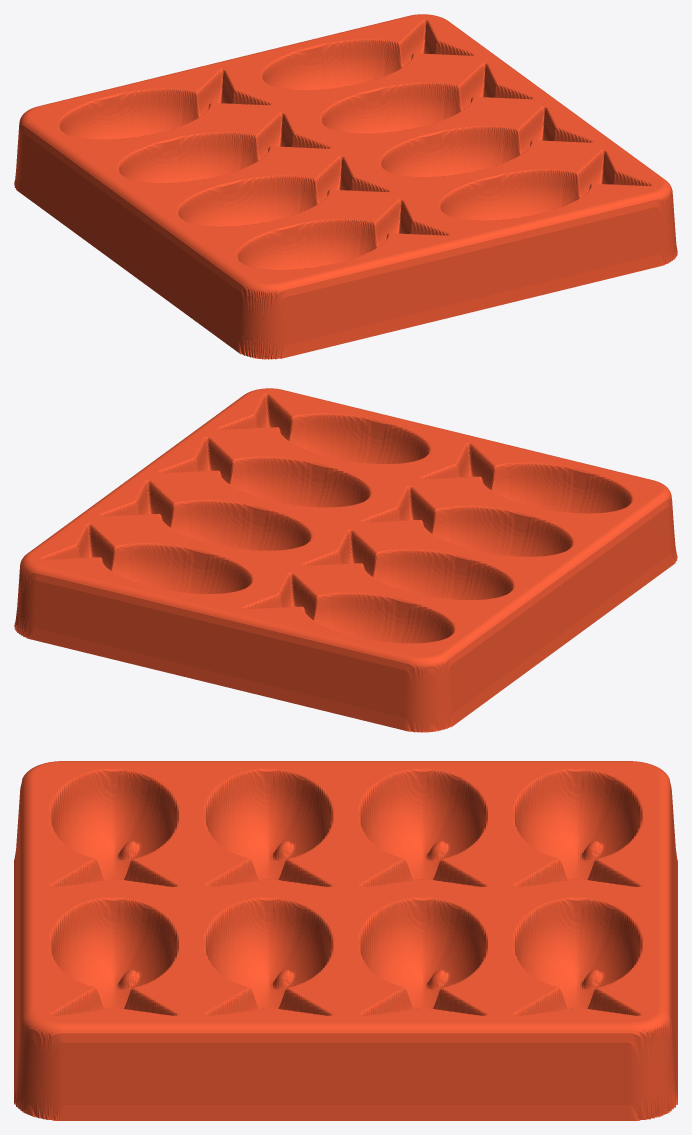
File: mold.glb
3 renders of one model, top to bottom at view 1: azimuth 30°, elevation 25°; view 2: azimuth 150°, elevation 25°; view 3: azimuth 270°, elevation 25°, orthographic. The views are drawn at different scales.
Visible parts, largest first — view 1: geometry_0; view 2: geometry_0; view 3: geometry_0.
Part boxes in pixels (x1,y1,x2,y2): geometry_0: [14, 14, 677, 359]; geometry_0: [14, 388, 677, 732]; geometry_0: [14, 761, 677, 1120].
Bounding box in the file's own units: 0.1222 × 0.0185 × 0.1237.
